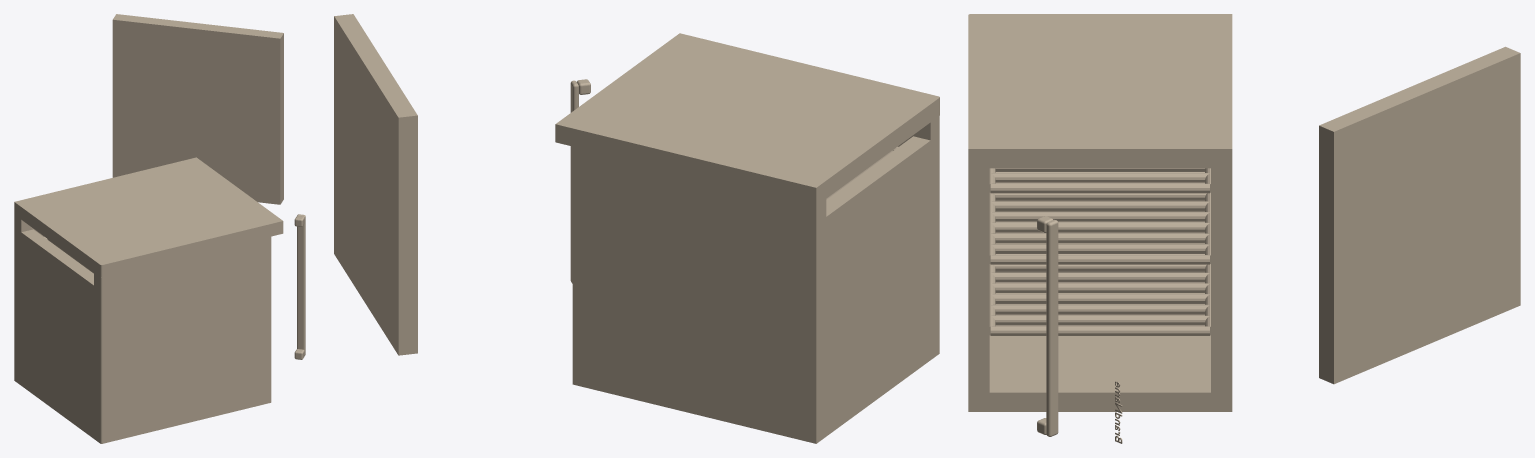
The model's file is 3dcodebench_BeverageFridge_seed0_L1_Q2__gemma431b.glb.
3 views of the same model, side by side, from view 1: azimuth 30°, elevation 25°; view 2: azimuth 150°, elevation 25°; view 3: azimuth 270°, elevation 25° (orthographic). The views are drawn at different scales.
Visible parts, largest first — view 1: object; view 2: object; view 3: object.
Part boxes in pixels (left/top/right/bottom): object: left=14, top=14, right=305, bottom=443; object: left=334, top=14, right=939, bottom=443; object: left=968, top=14, right=1520, bottom=443.
Size of the model in its own units: 2.1 by 1.75 by 2.18.
